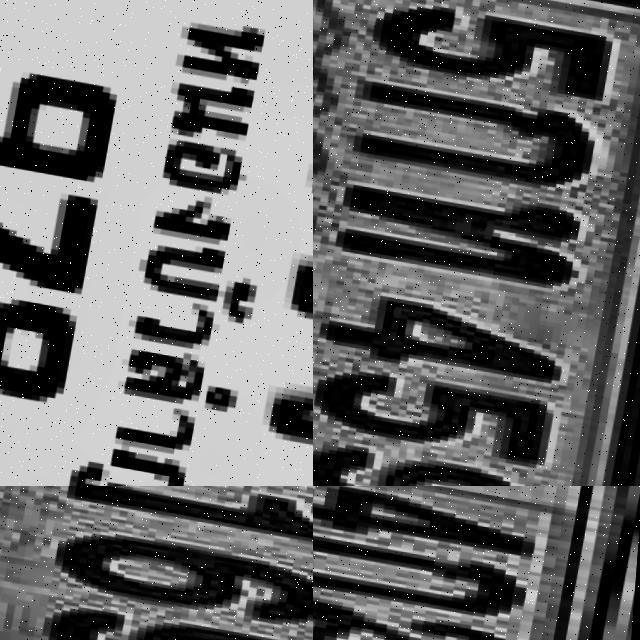license-plate: (313, 0, 640, 486), (0, 0, 313, 486), (313, 486, 636, 640), (0, 486, 313, 640)
